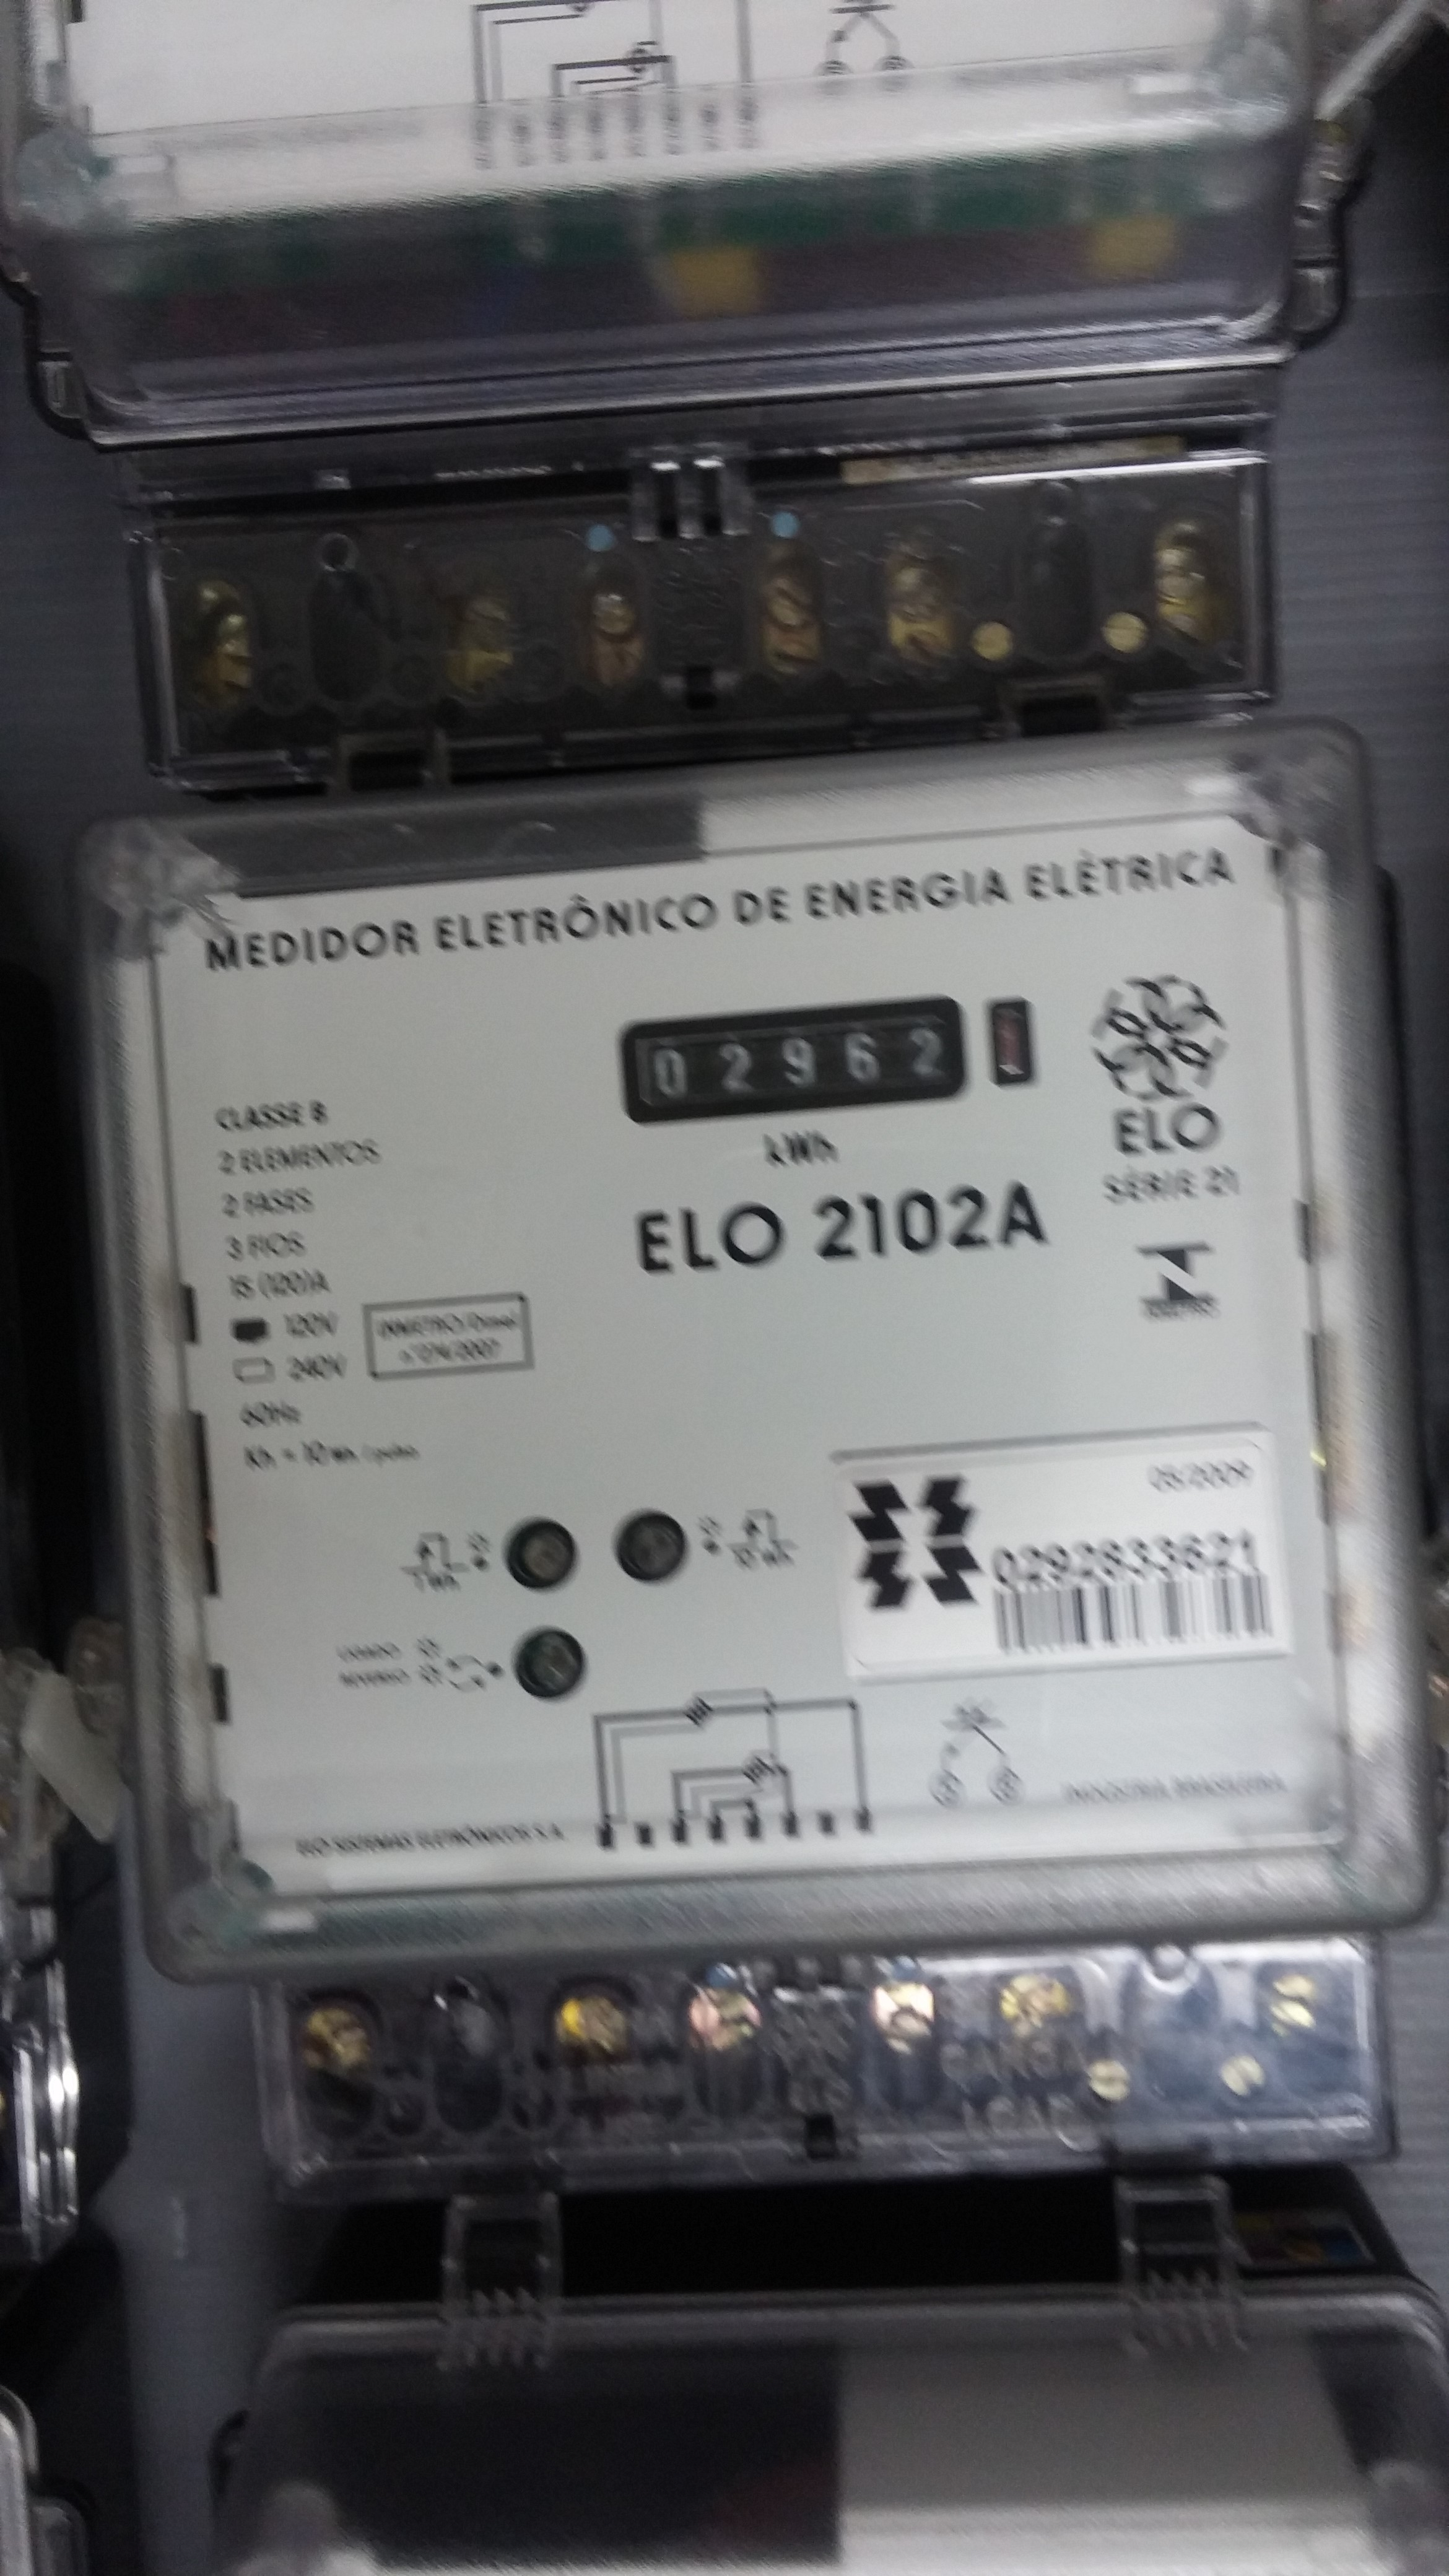counter2: (621, 1014, 977, 1113)
